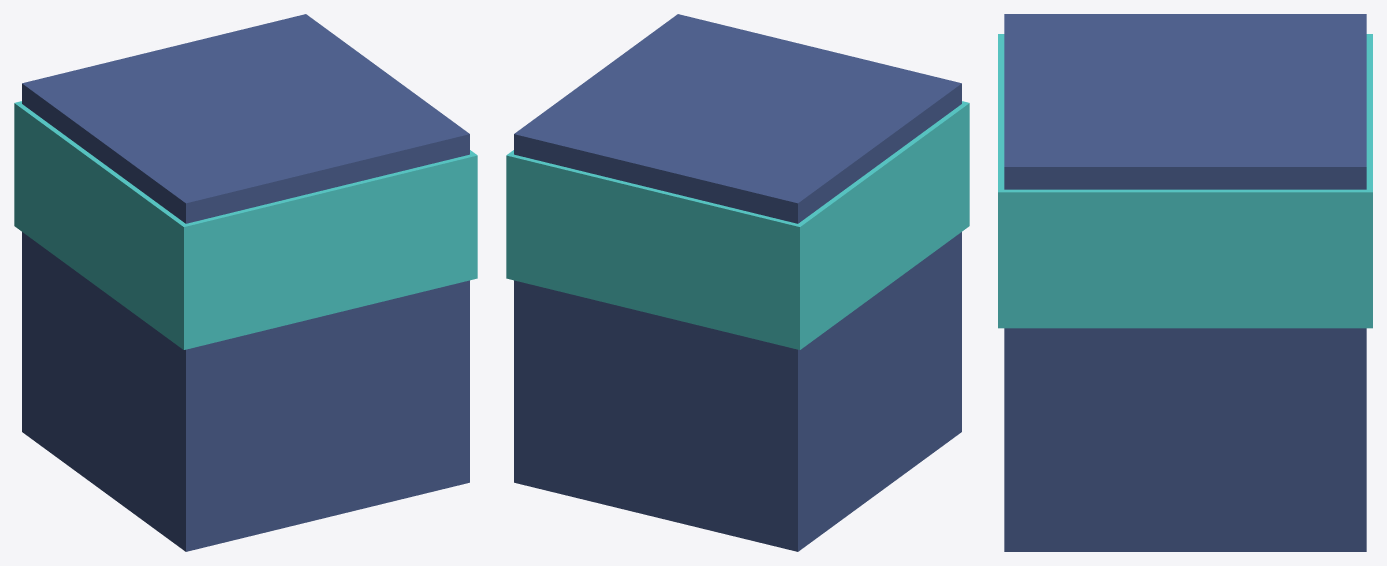
File: mergulhador_manga_sup.glb
3 views of the same model, side by side, from view 1: azimuth 30°, elevation 25°; view 2: azimuth 150°, elevation 25°; view 3: azimuth 270°, elevation 25° (orthographic). The views are drawn at different scales.
Visible parts, largest first — view 1: mergulhador_manga_sup; view 2: mergulhador_manga_sup; view 3: mergulhador_manga_sup.
Part boxes in pixels (x1,y1,x2,y2): mergulhador_manga_sup: (14,14,477,551); mergulhador_manga_sup: (506,14,969,551); mergulhador_manga_sup: (998,14,1372,551).
Size of the model in its own units: 0.3 by 0.34 by 0.3.
